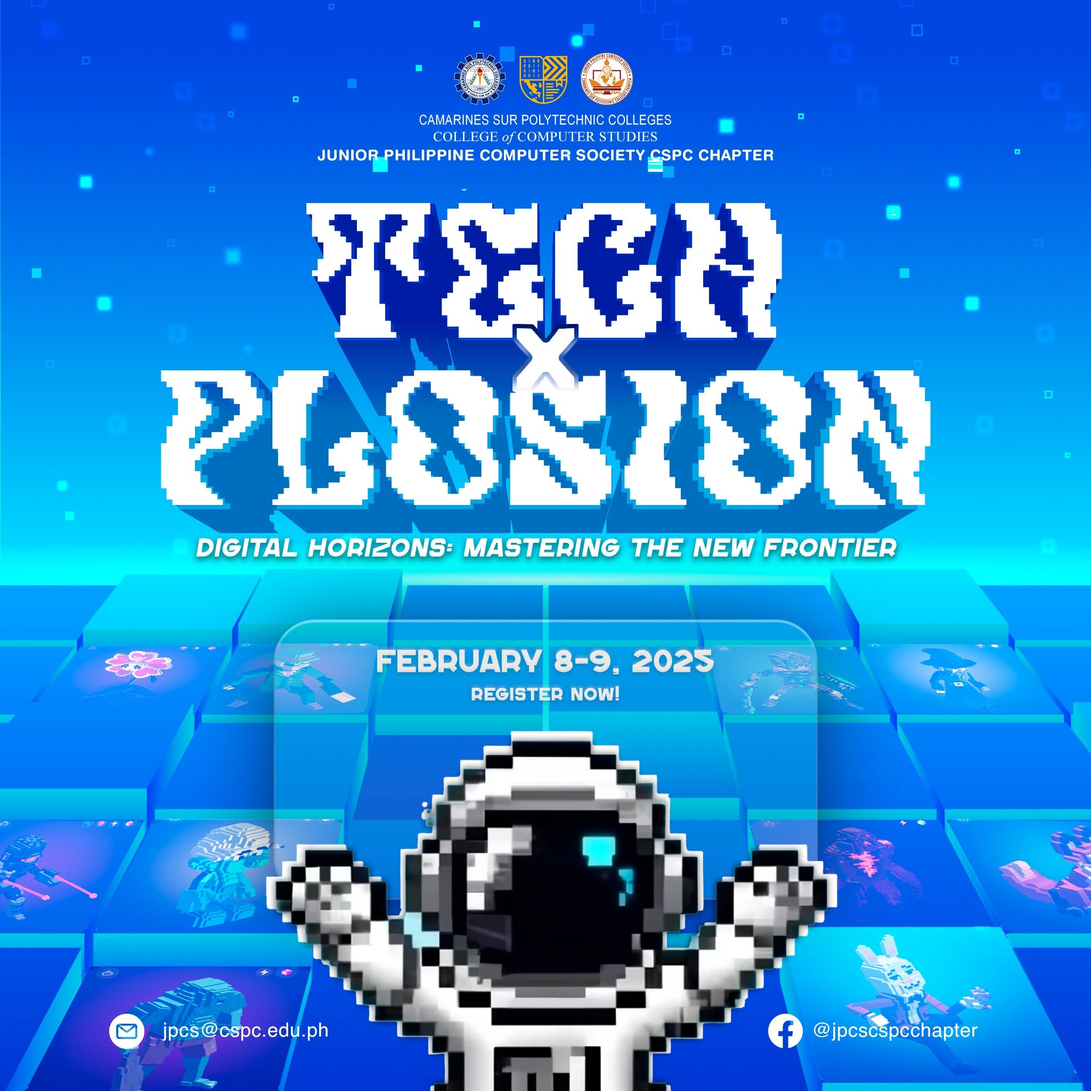embellishment: (258, 726, 842, 1082), (270, 612, 824, 934), (106, 1006, 150, 1047), (764, 1007, 810, 1046)
logo: (581, 51, 634, 106), (454, 51, 506, 106), (518, 55, 568, 105)
text: (160, 202, 931, 509), (196, 537, 898, 560), (376, 648, 714, 678), (316, 149, 774, 162), (419, 112, 671, 126), (161, 1021, 328, 1041), (812, 1021, 978, 1041), (432, 129, 658, 143), (470, 686, 618, 702)
underlay: (271, 618, 819, 938)
